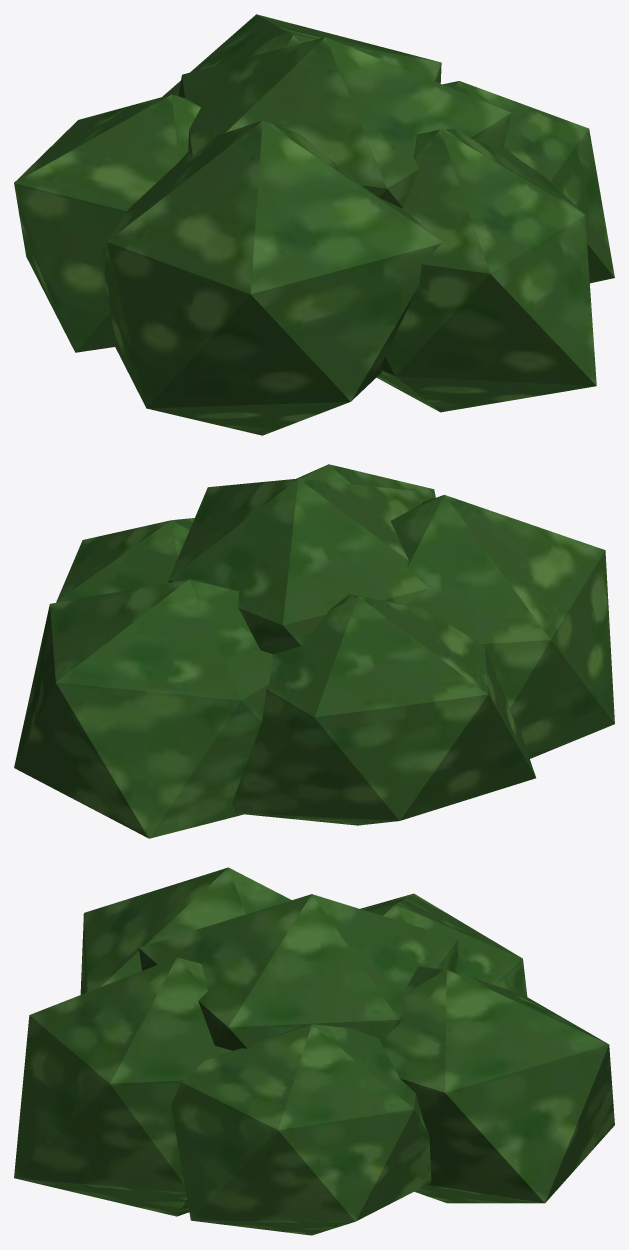
Rendered from bush_a.glb.
3 renders of one model, top to bottom at view 1: azimuth 30°, elevation 25°; view 2: azimuth 150°, elevation 25°; view 3: azimuth 270°, elevation 25°, orthographic. The views are drawn at different scales.
Parts seen in each view (by area): view 1: Bush_A; view 2: Bush_A; view 3: Bush_A.
Part boxes in pixels (<box>): Bush_A: <box>14,14,614,435</box>; Bush_A: <box>14,464,614,838</box>; Bush_A: <box>14,867,614,1235</box>.
Size of the model in its own units: 1.69 by 1.09 by 1.91.
Materials: 1 (1 with a texture image).
